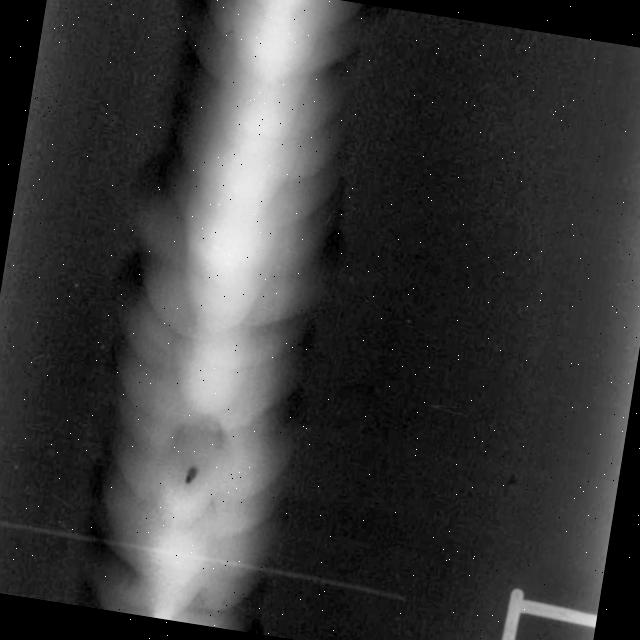Pore: (171, 451, 211, 496)
